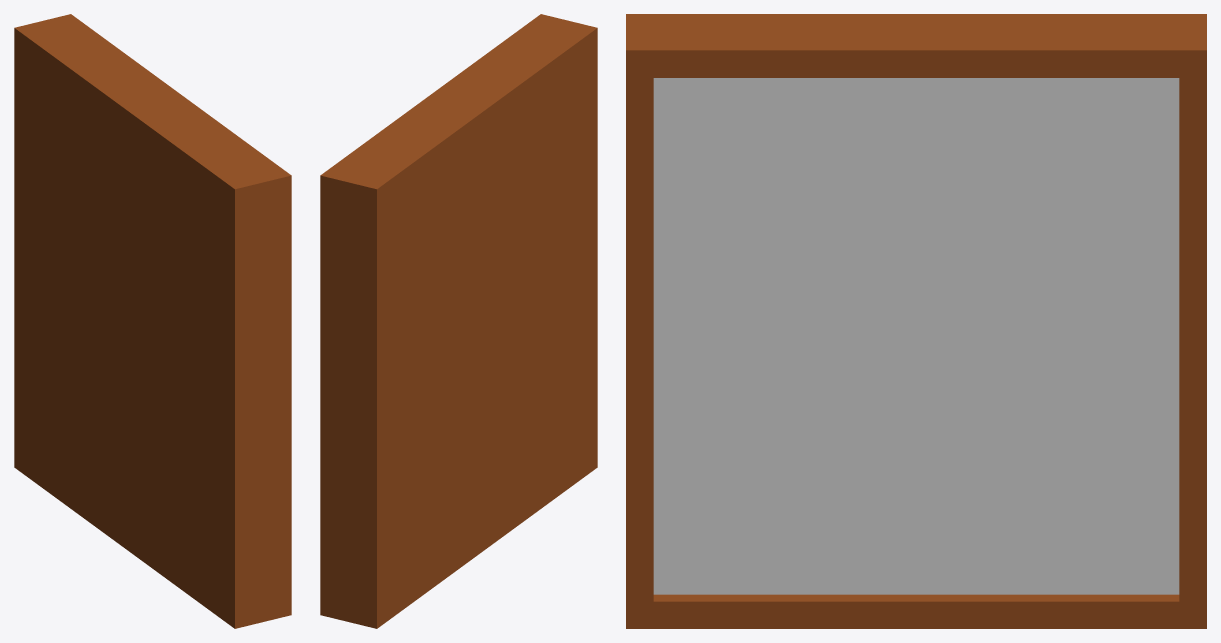
File: Picture Frame 4.fbx
3 renders of one model, left to right at view 1: azimuth 30°, elevation 25°; view 2: azimuth 150°, elevation 25°; view 3: azimuth 270°, elevation 25°, orthographic. The views are drawn at different scales.
Parts seen in each view (by area): view 1: Picture Frame 1; view 2: Picture Frame 1; view 3: Picture Frame 1.
Boxes of the visible parts, left/top/right/bottom form: Picture Frame 1: left=14, top=14, right=291, bottom=628; Picture Frame 1: left=320, top=14, right=597, bottom=628; Picture Frame 1: left=626, top=14, right=1206, bottom=628.
Bounding box in the file's own units: 0.2278 × 1.54 × 1.69.
